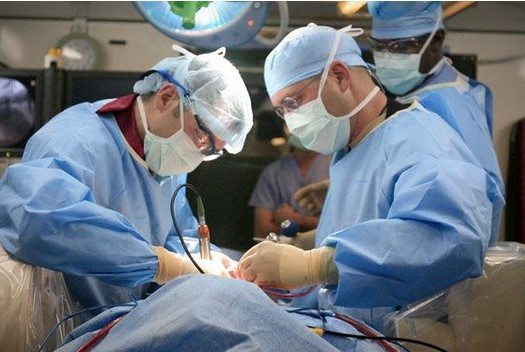face_with_mask: (134, 54, 251, 180), (261, 22, 356, 158), (365, 3, 445, 98)
